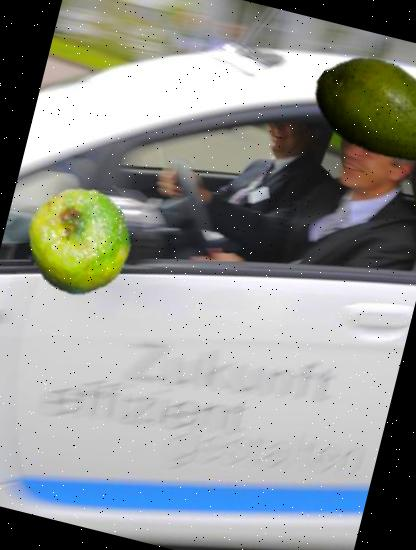Avocado: (297, 27, 416, 194)
Limes: (13, 177, 142, 307)
